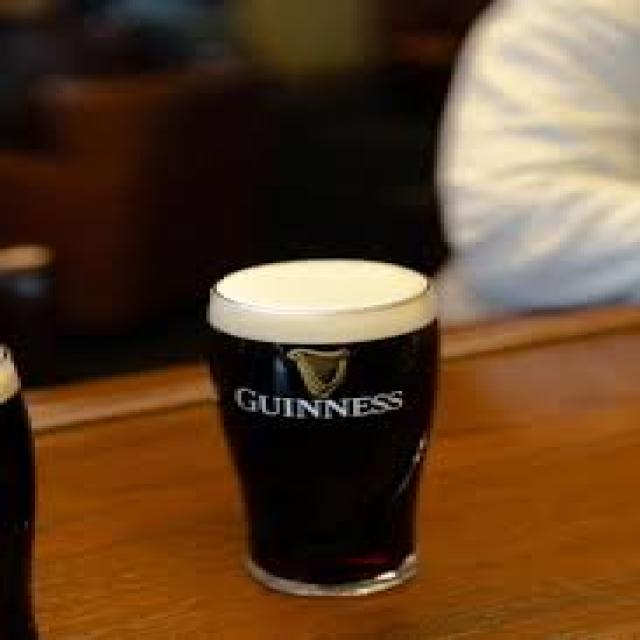guiness_full_glass: (202, 260, 442, 596)
